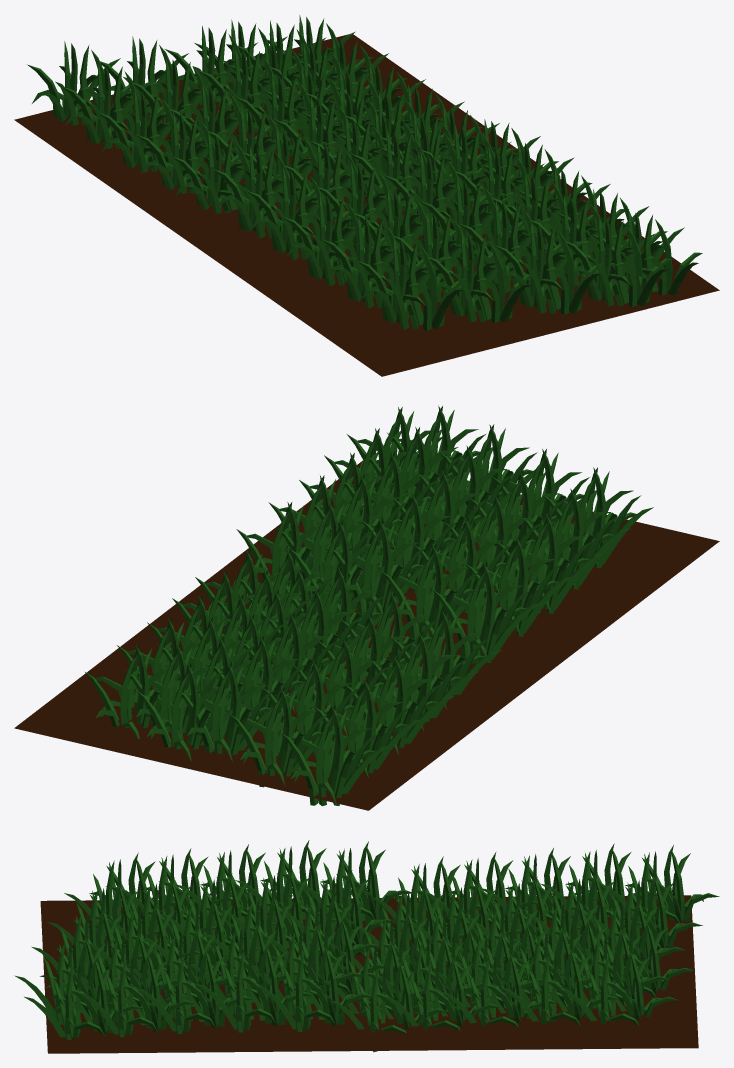
File: grass.gltf
3 views of the same model, one above another, from view 1: azimuth 30°, elevation 25°; view 2: azimuth 150°, elevation 25°; view 3: azimuth 270°, elevation 25° (orthographic). The views are drawn at different scales.
Visible parts, largest first — view 1: Plane.001, Cube.021, Cube.031, Cube.026, Cube.036, Cube.019, Cube.018, Cube.020, Cube.038, Cube.017, Cube.039, Cube.040 (+45 smaller); view 2: Plane.001, Cube.037, Cube.017, Cube.042, Cube.047, Cube.022, Cube.027, Cube.018, Cube.038, Cube.069, Cube.019, Cube.074 (+45 smaller); view 3: Plane.001, Cube.064, Cube.065, Cube.066, Cube.067, Cube.068, Cube.074, Cube.075, Cube.076, Cube.017, Cube.077, Cube.037 (+45 smaller).
Boxes of the visible parts, <box> form: Plane.001: <box>14,34,719,376</box>; Cube.021: <box>356,237,467,330</box>; Cube.031: <box>494,221,605,314</box>; Cube.026: <box>429,232,531,322</box>; Cube.036: <box>566,216,672,307</box>; Cube.019: <box>282,193,389,286</box>; Cube.018: <box>245,167,357,259</box>; Cube.020: <box>321,216,432,308</box>; Cube.038: <box>60,63,172,149</box>; Cube.017: <box>212,146,317,238</box>; Cube.039: <box>97,89,204,172</box>; Cube.040: <box>135,111,247,194</box>; Plane.001: <box>14,460,719,810</box>; Cube.037: <box>280,705,391,806</box>; Cube.017: <box>432,562,543,663</box>; Cube.042: <box>229,686,334,787</box>; Cube.047: <box>176,662,282,761</box>; Cube.022: <box>381,543,486,643</box>; Cube.027: <box>328,519,439,619</box>; Cube.018: <box>464,535,575,636</box>; Cube.038: <box>312,678,423,778</box>; Cube.069: <box>136,663,247,761</box>; Cube.019: <box>494,513,605,613</box>; Cube.074: <box>85,644,189,739</box>; Plane.001: <box>40,895,698,1053</box>; Cube.064: <box>254,945,370,1032</box>; Cube.065: <box>195,943,313,1032</box>; Cube.066: <box>134,947,253,1034</box>; Cube.067: <box>76,952,196,1037</box>; Cube.068: <box>24,956,143,1040</box>; Cube.074: <box>559,948,678,1025</box>; Cube.075: <box>499,947,618,1025</box>; Cube.076: <box>439,951,558,1027</box>; Cube.017: <box>295,841,411,928</box>; Cube.077: <box>381,955,500,1030</box>; Cube.037: <box>600,845,719,923</box>.
Bounding box in the file's own units: 5.04 × 1.55 × 9.48.
